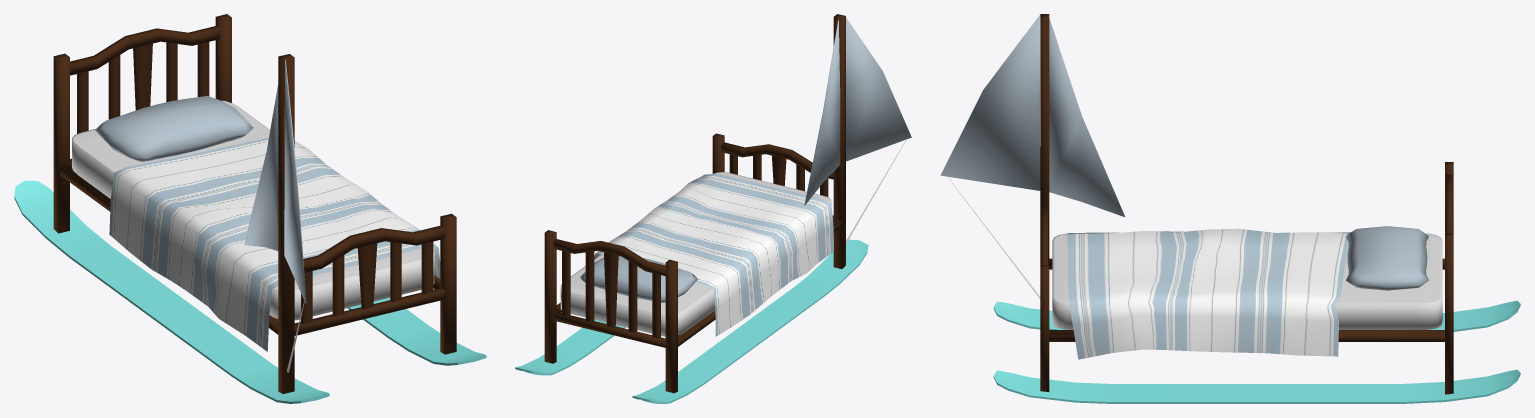
File: krevet_skije.fbx
The picture shows the model from 3 angles, left to right: view 1: azimuth 30°, elevation 25°; view 2: azimuth 150°, elevation 25°; view 3: azimuth 270°, elevation 25°; orthographic projection. The views are drawn at different scales.
Parts seen in each view (by area): view 1: bed01_two_old_beds.005, ski1.001, boat-sail.001; view 2: bed01_two_old_beds.005, ski1.001, boat-sail.001; view 3: bed01_two_old_beds.005, boat-sail.001, ski1.001.
Part boxes in pixels (box(x1,y1,x2,y2)): bed01_two_old_beds.005: box(53, 14, 456, 393); ski1.001: box(14, 180, 486, 403); boat-sail.001: box(244, 55, 306, 303); bed01_two_old_beds.005: box(544, 14, 845, 393); ski1.001: box(515, 239, 868, 403); boat-sail.001: box(804, 15, 911, 205); bed01_two_old_beds.005: box(1040, 14, 1453, 394); boat-sail.001: box(940, 15, 1124, 217); ski1.001: box(993, 300, 1520, 403).
Bounding box in the file's own units: 252 × 376 × 642.
7 materials, 1 textured.
